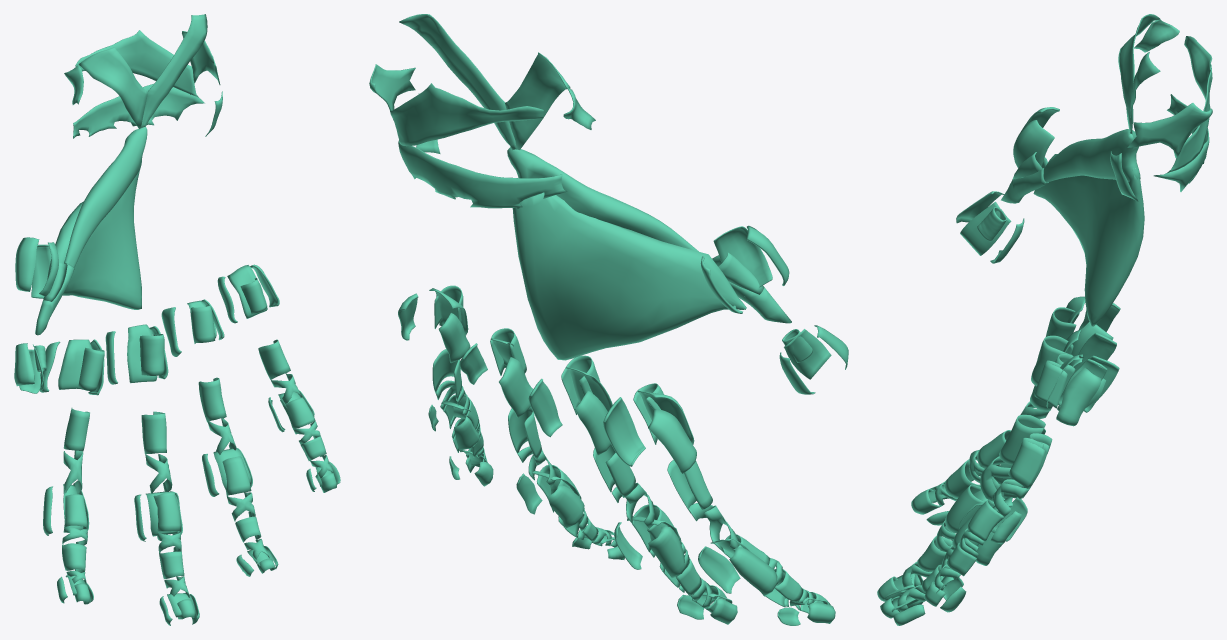
File: open3d-hand-attachments-01.glb
The picture shows the model from 3 angles, left to right: view 1: azimuth 30°, elevation 25°; view 2: azimuth 150°, elevation 25°; view 3: azimuth 270°, elevation 25°; orthographic projection. The views are drawn at different scales.
Parts seen in each view (by area): view 1: O3D_4dfe01f115e7c0, O3D_00c0dc632cc32e, O3D_6fcacacea3a94c, O3D_3f1ad40c830fb9, O3D_a5d6156a65e869, O3D_9f3fc37cf5a0a7, O3D_2a04b6767e27af, O3D_f11774c20ed990, O3D_eb0e0312eb248f, O3D_a06578dc7b9859, O3D_aba7b0e2ea23b4, O3D_718da029ee2f6a (+10 smaller); view 2: O3D_4dfe01f115e7c0, O3D_00c0dc632cc32e, O3D_fa2f4df7dbf063, O3D_aba7b0e2ea23b4, O3D_a06578dc7b9859, O3D_a5d6156a65e869, O3D_3f1ad40c830fb9, O3D_6fcacacea3a94c, O3D_718da029ee2f6a, O3D_9f3fc37cf5a0a7, O3D_1056825be496dd, O3D_2a04b6767e27af (+11 smaller); view 3: O3D_4dfe01f115e7c0, O3D_00c0dc632cc32e, O3D_f11774c20ed990, O3D_6fcacacea3a94c, O3D_3f1ad40c830fb9, O3D_9f3fc37cf5a0a7, O3D_718da029ee2f6a, O3D_f4020071ca8d9c, O3D_a5d6156a65e869, O3D_a06578dc7b9859, O3D_d6ad1e0f559953, O3D_f794fd8456dd4a (+12 smaller).
Part boxes in pixels (x1,y1,x2,y2): O3D_4dfe01f115e7c0: (47, 169, 141, 309); O3D_00c0dc632cc32e: (15, 237, 279, 395); O3D_6fcacacea3a94c: (139, 334, 194, 619); O3D_3f1ad40c830fb9: (64, 126, 147, 267); O3D_a5d6156a65e869: (39, 242, 267, 390); O3D_9f3fc37cf5a0a7: (62, 347, 104, 604); O3D_2a04b6767e27af: (190, 305, 275, 573); O3D_f11774c20ed990: (240, 278, 336, 492); O3D_eb0e0312eb248f: (79, 47, 147, 129); O3D_a06578dc7b9859: (75, 30, 198, 97); O3D_aba7b0e2ea23b4: (73, 84, 204, 138); O3D_718da029ee2f6a: (14, 343, 340, 625); O3D_4dfe01f115e7c0: (512, 192, 746, 360); O3D_00c0dc632cc32e: (398, 225, 789, 473); O3D_fa2f4df7dbf063: (428, 404, 777, 596); O3D_aba7b0e2ea23b4: (398, 140, 567, 208); O3D_a06578dc7b9859: (390, 83, 543, 146); O3D_a5d6156a65e869: (429, 226, 772, 444); O3D_3f1ad40c830fb9: (507, 147, 698, 251); O3D_6fcacacea3a94c: (561, 355, 726, 612); O3D_718da029ee2f6a: (449, 325, 848, 625); O3D_9f3fc37cf5a0a7: (633, 383, 830, 613); O3D_1056825be496dd: (399, 14, 516, 150); O3D_2a04b6767e27af: (490, 328, 617, 547); O3D_4dfe01f115e7c0: (1033, 154, 1144, 326); O3D_00c0dc632cc32e: (1018, 107, 1120, 426); O3D_f11774c20ed990: (924, 360, 1067, 606); O3D_6fcacacea3a94c: (877, 335, 1073, 601); O3D_3f1ad40c830fb9: (1043, 129, 1140, 182); O3D_9f3fc37cf5a0a7: (911, 307, 1079, 514); O3D_718da029ee2f6a: (893, 191, 1024, 625); O3D_f4020071ca8d9c: (1127, 103, 1212, 157); O3D_a5d6156a65e869: (1013, 120, 1085, 408); O3D_a06578dc7b9859: (1167, 36, 1212, 173); O3D_d6ad1e0f559953: (884, 201, 1011, 612); O3D_f794fd8456dd4a: (902, 456, 1011, 590).
Bounding box in the file's own units: 0.1055 × 0.1647 × 0.08.
